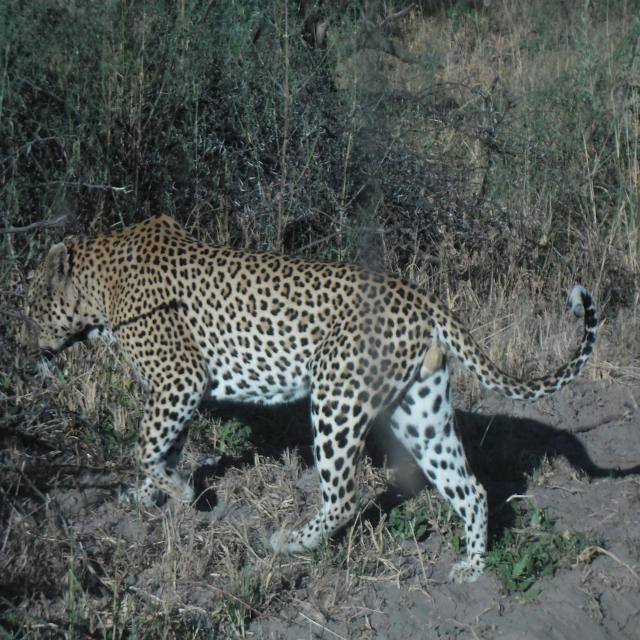Leopard: (10, 218, 611, 561)
